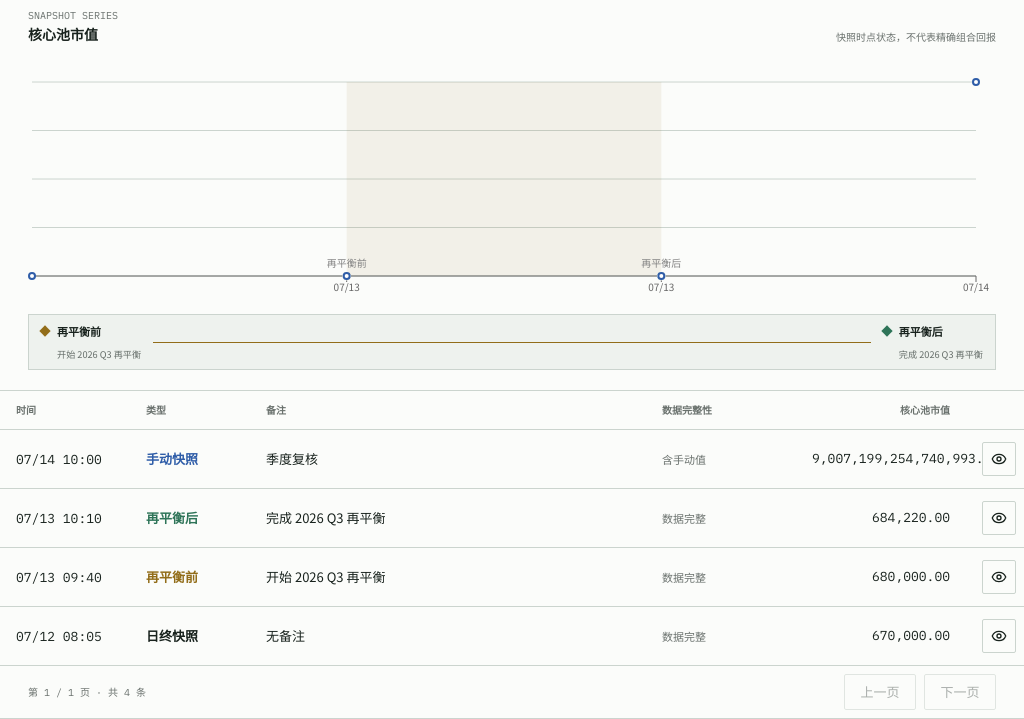
Scenario: SnapshotsPage › opens responsive detail content and preserves exact Decimal display
This screenshot has width=1024, height=719.
(page scrolled)
Click the button named "查看详情" in the row of "07/14 10:00" at (999, 459), box [982,442,1016,476]
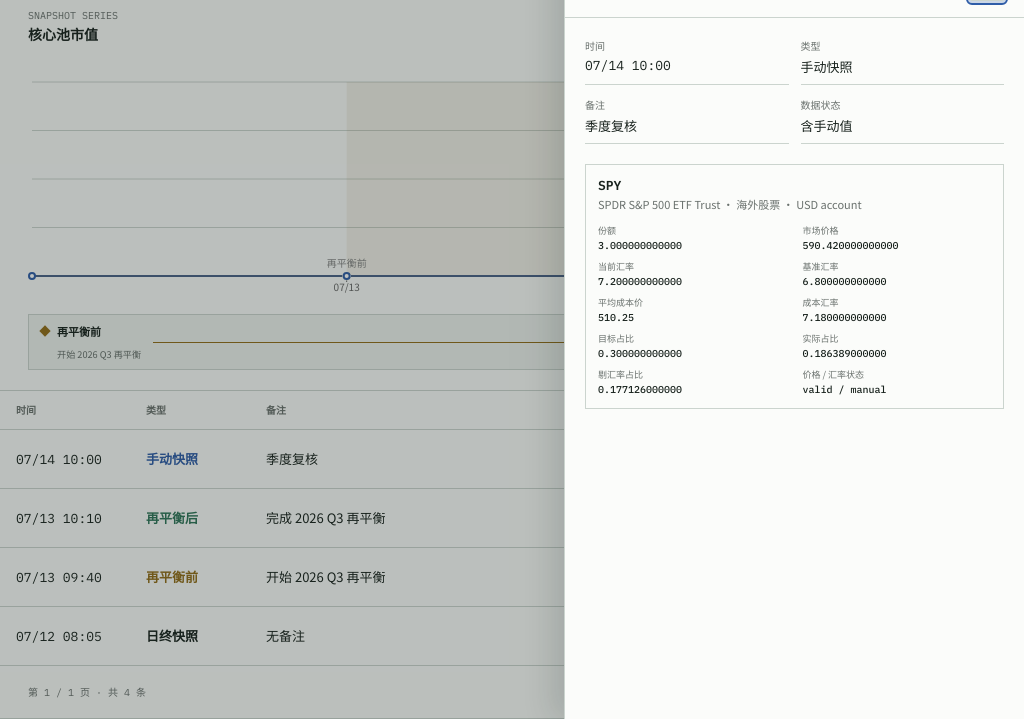
Result: the dialog "快照详情" shows "SPY" at [598,177,621,194]
Result: the dialog "快照详情" shows "590.420000000000" at [802,239,898,252]
Result: the dialog "快照详情" shows "7.200000000000" at [598,275,682,288]
